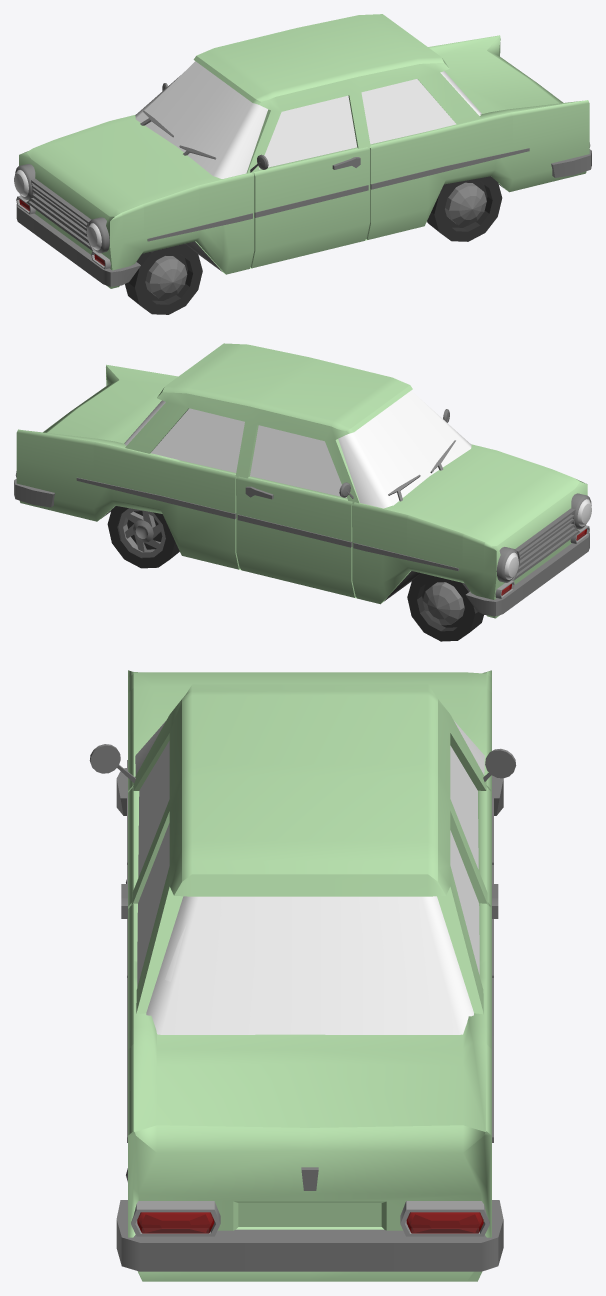
File: Oliver.fbx
The picture shows the model from 3 angles, top to bottom: view 1: azimuth 30°, elevation 25°; view 2: azimuth 150°, elevation 25°; view 3: azimuth 270°, elevation 25°; orthographic projection. The views are drawn at different scales.
Parts seen in each view (by area): view 1: pCube1, pCube2, pCube4, pCube6, pCylinder5, pCylinder11, pCube15, pCube29, pCube14, pCylinder10, pCylinder12, pCube16; view 2: pCube1, pCube2, pCube4, pCube7, pCylinder9, pCube15, pCube28, pCube14, pCylinder7, pCylinder6, pCylinder8, pCylinder13 (+1 smaller); view 3: pCube1, pCube2, pCube5, pCube16, pCube6, pCube7, pCube17, pCube19, pCube18, pCube20, pCylinder16, pCube15 (+1 smaller).
Part boxes in pixels (bbox=[...]): pCube1: bbox=[19, 35, 589, 288]; pCube2: bbox=[193, 14, 481, 175]; pCube4: bbox=[135, 61, 268, 178]; pCube6: bbox=[259, 79, 456, 169]; pCylinder5: bbox=[125, 243, 202, 314]; pCylinder11: bbox=[427, 176, 502, 241]; pCube15: bbox=[16, 204, 140, 286]; pCube29: bbox=[147, 148, 529, 241]; pCube14: bbox=[26, 179, 94, 251]; pCylinder10: bbox=[145, 256, 187, 298]; pCylinder12: bbox=[445, 182, 486, 225]; pCube16: bbox=[551, 149, 591, 177]; pCube1: bbox=[16, 364, 587, 618]; pCube2: bbox=[125, 343, 412, 504]; pCube4: bbox=[338, 390, 471, 508]; pCube7: bbox=[151, 408, 346, 497]; pCylinder9: bbox=[407, 573, 483, 641]; pCube15: bbox=[465, 533, 589, 616]; pCube28: bbox=[76, 477, 458, 571]; pCube14: bbox=[511, 508, 579, 580]; pCylinder7: bbox=[107, 506, 179, 568]; pCylinder6: bbox=[422, 582, 464, 625]; pCylinder8: bbox=[125, 511, 160, 551]; pCylinder13: bbox=[118, 508, 165, 557]; pCube1: bbox=[128, 670, 491, 1281]; pCube2: bbox=[131, 684, 488, 1014]; pCube5: bbox=[146, 896, 473, 1034]; pCube16: bbox=[116, 1200, 503, 1271]; pCube6: bbox=[137, 741, 169, 986]; pCube7: bbox=[450, 745, 479, 974]; pCube17: bbox=[131, 1201, 220, 1236]; pCube19: bbox=[400, 1201, 489, 1236]; pCube18: bbox=[137, 1212, 214, 1233]; pCube20: bbox=[406, 1212, 483, 1233]; pCylinder16: bbox=[89, 744, 135, 782]; pCube15: bbox=[116, 768, 503, 815].
Size of the model in its own units: 13.04 by 4.69 by 4.86.
